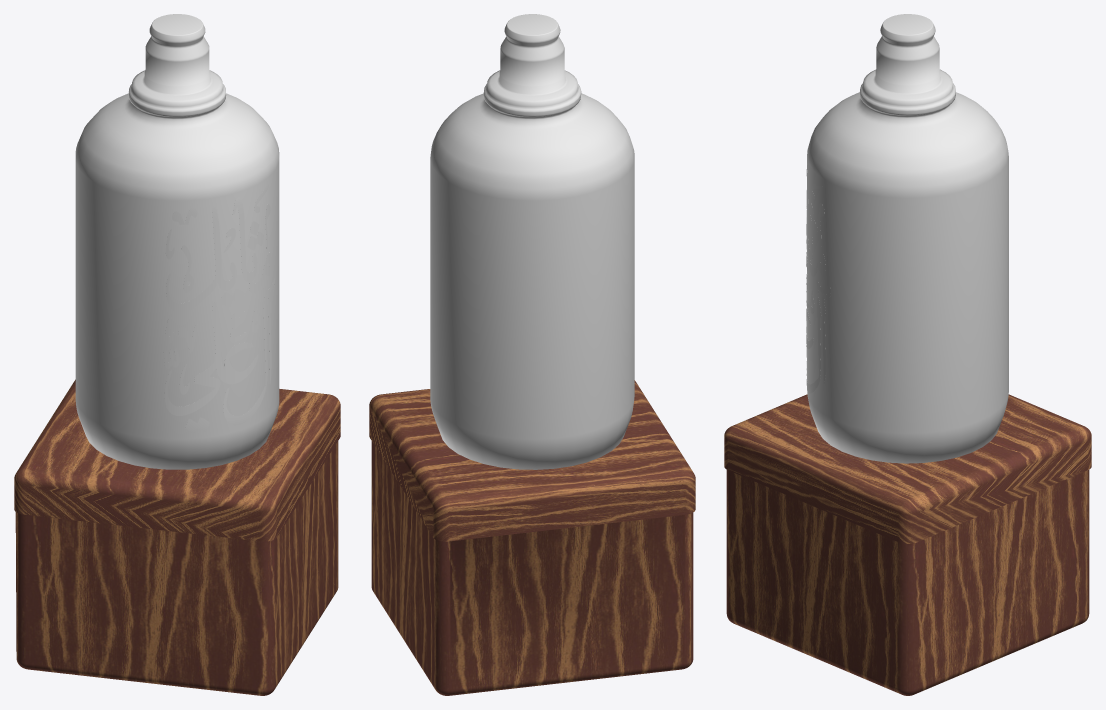
The model's file is shortLamp.fbx.
The picture shows the model from 3 angles, left to right: view 1: azimuth 30°, elevation 25°; view 2: azimuth 150°, elevation 25°; view 3: azimuth 270°, elevation 25°; orthographic projection.
Parts seen in each view (by area): view 1: Cube, bottle outside, Curve.002; view 2: bottle outside, Cube; view 3: Cube, bottle outside, Curve.002.
Boxes of the visible parts, x1=… form: Cube: x1=14, y1=379, x2=340, y2=695; bottle outside: x1=75, y1=14, x2=279, y2=469; Curve.002: x1=163, y1=183, x2=274, y2=433; bottle outside: x1=430, y1=14, x2=634, y2=469; Cube: x1=369, y1=380, x2=695, y2=695; Cube: x1=724, y1=394, x2=1091, y2=695; bottle outside: x1=807, y1=14, x2=1008, y2=463; Curve.002: x1=806, y1=165, x2=830, y2=393.
Size of the model in its own units: 18.87 by 33.93 by 18.87.
